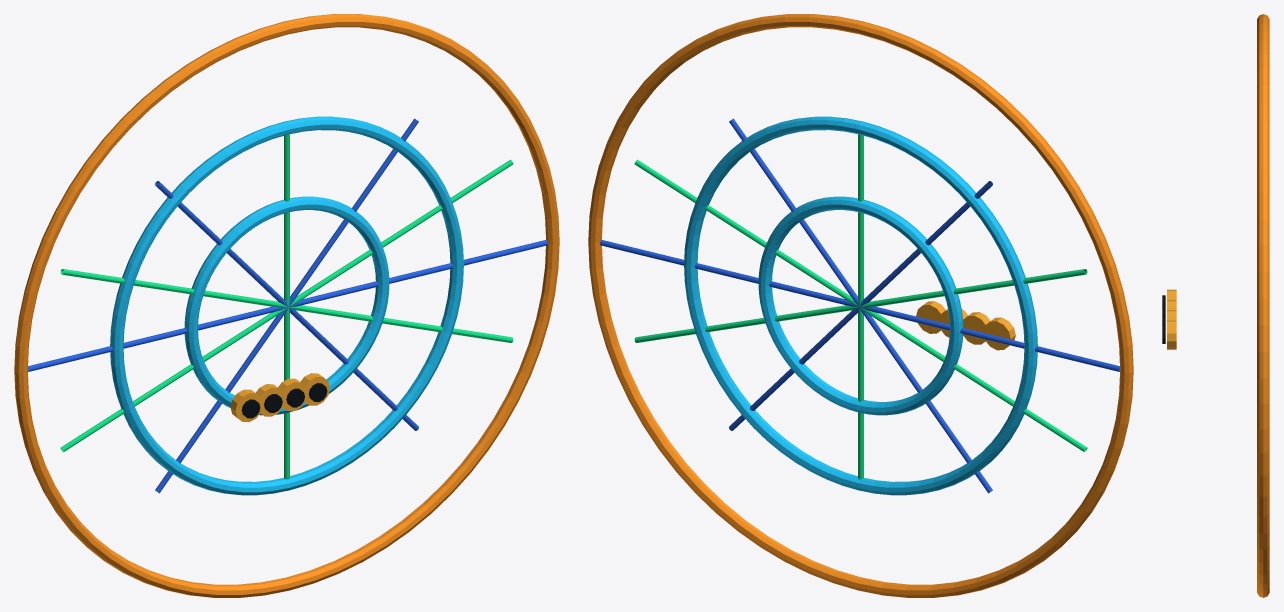
The model's file is 47_L87_RotorImbalanceVectorDisplay.fbx.
3 views of the same model, side by side, from view 1: azimuth 30°, elevation 25°; view 2: azimuth 150°, elevation 25°; view 3: azimuth 270°, elevation 25° (orthographic). The views are drawn at different scales.
Visible parts, largest first — view 1: L87_RotorImbalanceVectorDisplay_Part_0001, L87_RotorImbalanceVectorDisplay_Part_0000, L87_RotorImbalanceVectorDisplay_Part_0002, L87_RotorImbalanceVectorDisplay_Part_0003; view 2: L87_RotorImbalanceVectorDisplay_Part_0001, L87_RotorImbalanceVectorDisplay_Part_0000, L87_RotorImbalanceVectorDisplay_Part_0003, L87_RotorImbalanceVectorDisplay_Part_0002; view 3: L87_RotorImbalanceVectorDisplay_Part_0001, L87_RotorImbalanceVectorDisplay_Part_0010.
Part boxes in pixels (box(x1,y1,x2,y2)): L87_RotorImbalanceVectorDisplay_Part_0001: box(14, 14, 559, 597); L87_RotorImbalanceVectorDisplay_Part_0000: box(110, 116, 463, 495); L87_RotorImbalanceVectorDisplay_Part_0002: box(28, 118, 547, 493); L87_RotorImbalanceVectorDisplay_Part_0003: box(60, 134, 513, 479); L87_RotorImbalanceVectorDisplay_Part_0001: box(588, 14, 1133, 597); L87_RotorImbalanceVectorDisplay_Part_0000: box(684, 116, 1037, 495); L87_RotorImbalanceVectorDisplay_Part_0003: box(634, 134, 1087, 479); L87_RotorImbalanceVectorDisplay_Part_0002: box(600, 118, 1119, 493); L87_RotorImbalanceVectorDisplay_Part_0001: box(1257, 14, 1269, 597); L87_RotorImbalanceVectorDisplay_Part_0010: box(1167, 320, 1176, 349).
Size of the model in its own units: 256 by 256 by 46.96.
